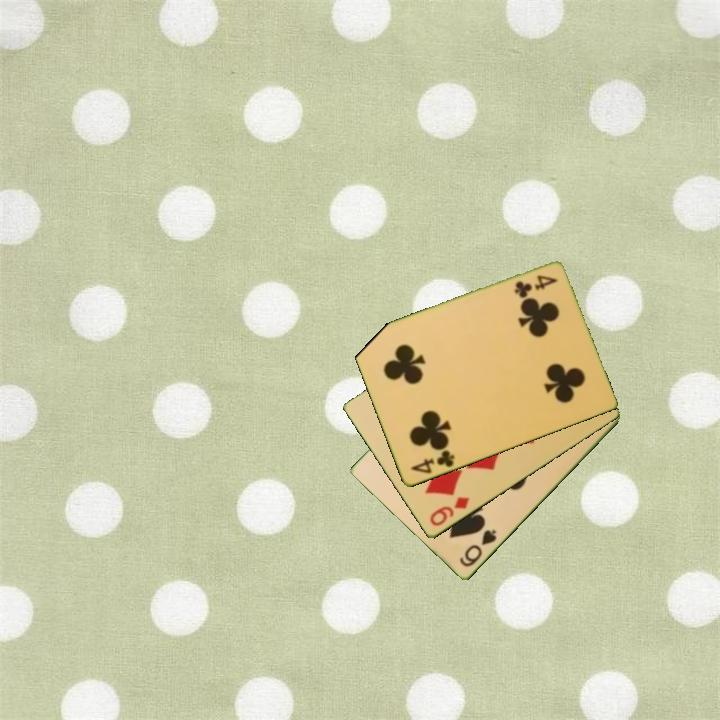4c: (407, 447, 457, 477), (510, 272, 561, 300)
6s: (456, 526, 500, 570)
9d: (426, 493, 472, 529)
